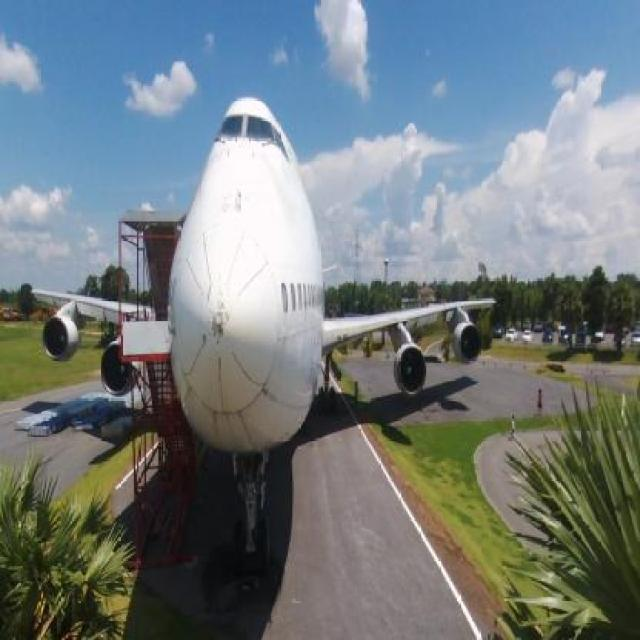Rust: (211, 310, 229, 342)
Scartch: (193, 282, 244, 364), (214, 183, 258, 228)
